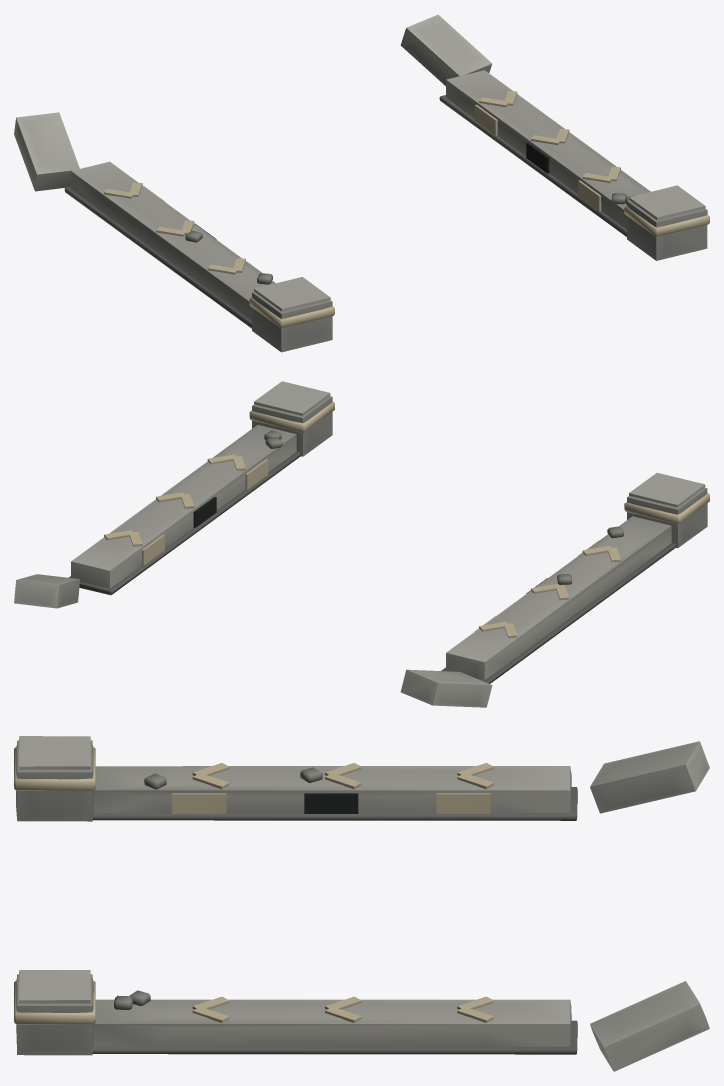
File: takeoff_deck_b_lod1.glb
3 renders of one model, top to bottom at view 1: azimuth 30°, elevation 25°; view 2: azimuth 150°, elevation 25°; view 3: azimuth 270°, elevation 25°, orthographic. The views are drawn at different scales.
Parts seen in each view (by area): view 1: Surface.001; view 2: Surface.001; view 3: Surface.001.
Boxes of the visible parts, x1,y1,x2,y2 form: Surface.001: (14,14,709,352); Surface.001: (14,381,709,707); Surface.001: (14,736,709,1071).
Size of the model in its own units: 11.17 by 1.16 by 11.58.
